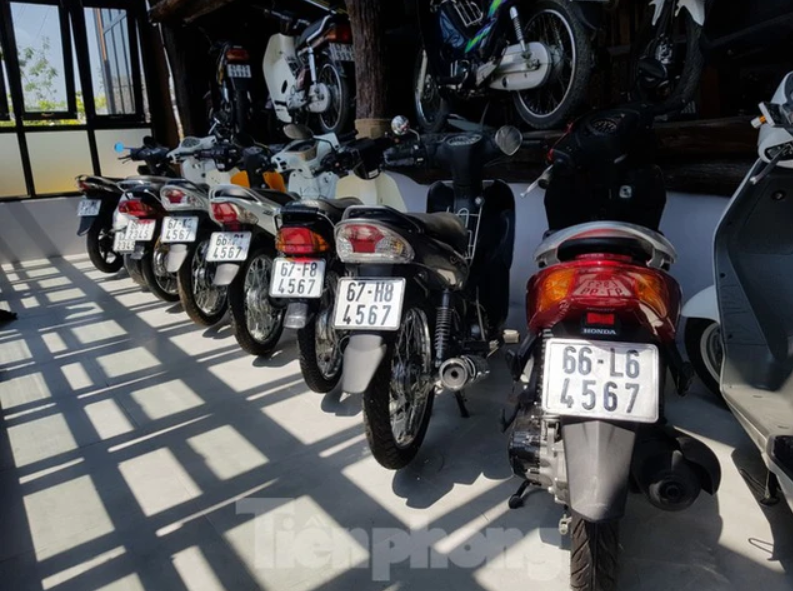bien_so: (537, 330, 667, 428), (327, 275, 408, 334), (269, 254, 327, 303), (205, 229, 254, 266), (160, 210, 199, 246), (126, 217, 157, 246), (109, 228, 137, 257), (74, 199, 105, 218)
